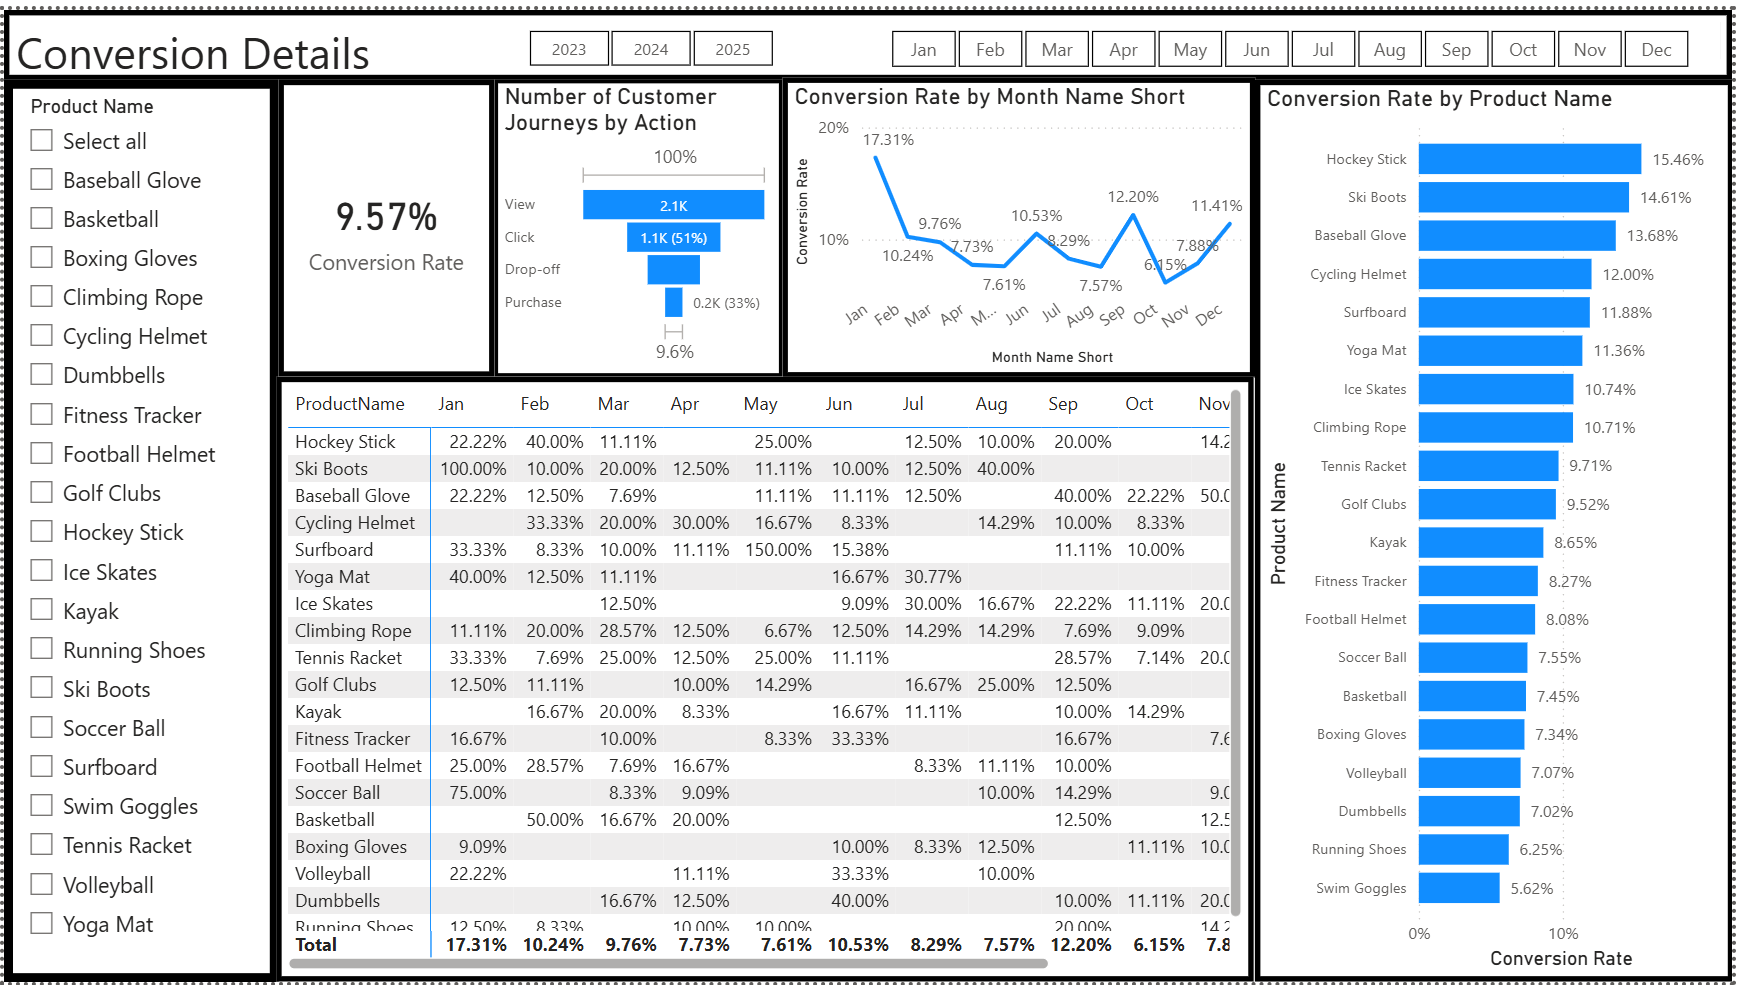

What the dashboard file says about the page in this screenshot:
{"tool":"powerbi","page":{"name":"Conversion Details","canvas":[1280,720],"ordinal":1},"visuals":[{"type":"textbox","box":[0,0,1280,52],"z":0},{"type":"slicer","fields":{"Values":["dim_products.ProductName"]},"box":[0,51.7,203.3,668.3],"z":1000},{"type":"card","fields":{"Values":["_Calculations.Conversion Rate"]},"box":[203.3,51.7,160,220],"z":2000},{"type":"lineChart","fields":{"Y":["_Calculations.Conversion Rate"],"Category":["Calendar.MonthNameShort"]},"box":[576,50,350,222],"z":3000},{"type":"slicer","fields":{"Values":["Calendar.Year"]},"box":[363.3,8.3,230,36.7],"z":4000},{"type":"slicer","fields":{"Values":["Calendar.MonthNameShort"]},"box":[632,9,640,36],"z":5000},{"type":"clusteredBarChart","fields":{"Category":["dim_products.ProductName"],"Y":["_Calculations.Conversion Rate"]},"box":[926,52,354,668],"z":6000},{"type":"pivotTable","fields":{"Values":["_Calculations.Conversion Rate"],"Rows":["dim_products.ProductName"],"Columns":["Calendar.MonthNameShort"]},"box":[202,272,724,448],"z":7000},{"type":"funnel","fields":{"Y":["_Calculations.Number of Customer Journeys"],"Category":["fact_customer_journey.Action"]},"box":[363.3,51.7,213.3,220],"z":8000}]}

Visuals, with their boxes in screenshot pixels (x1, y1, x2, y2), scaled from the page's 1280x720 canvas onto the 1739x985 screenshot:
textbox: crop(0, 0, 1738, 71)
slicer - dim_products.ProductName: crop(0, 71, 276, 984)
card - _Calculations.Conversion Rate: crop(276, 71, 494, 372)
lineChart - _Calculations.Conversion Rate x Calendar.MonthNameShort: crop(783, 68, 1258, 372)
slicer - Calendar.Year: crop(494, 11, 806, 62)
slicer - Calendar.MonthNameShort: crop(859, 12, 1728, 62)
clusteredBarChart - dim_products.ProductName x _Calculations.Conversion Rate: crop(1258, 71, 1738, 984)
pivotTable - _Calculations.Conversion Rate x dim_products.ProductName: crop(274, 372, 1258, 984)
funnel - _Calculations.Number of Customer Journeys x fact_customer_journey.Action: crop(494, 71, 783, 372)
